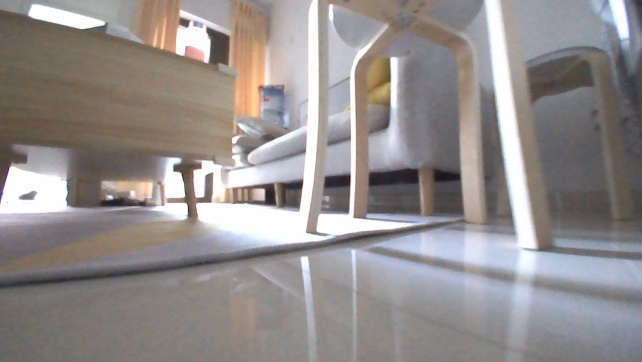blanket: (0, 200, 285, 290)
sofa: (219, 35, 496, 220)
